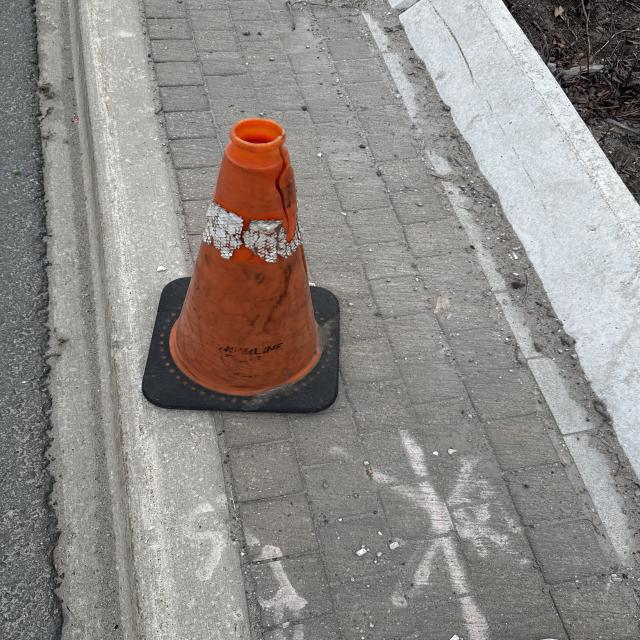Traffic Cone: (138, 116, 350, 416)
